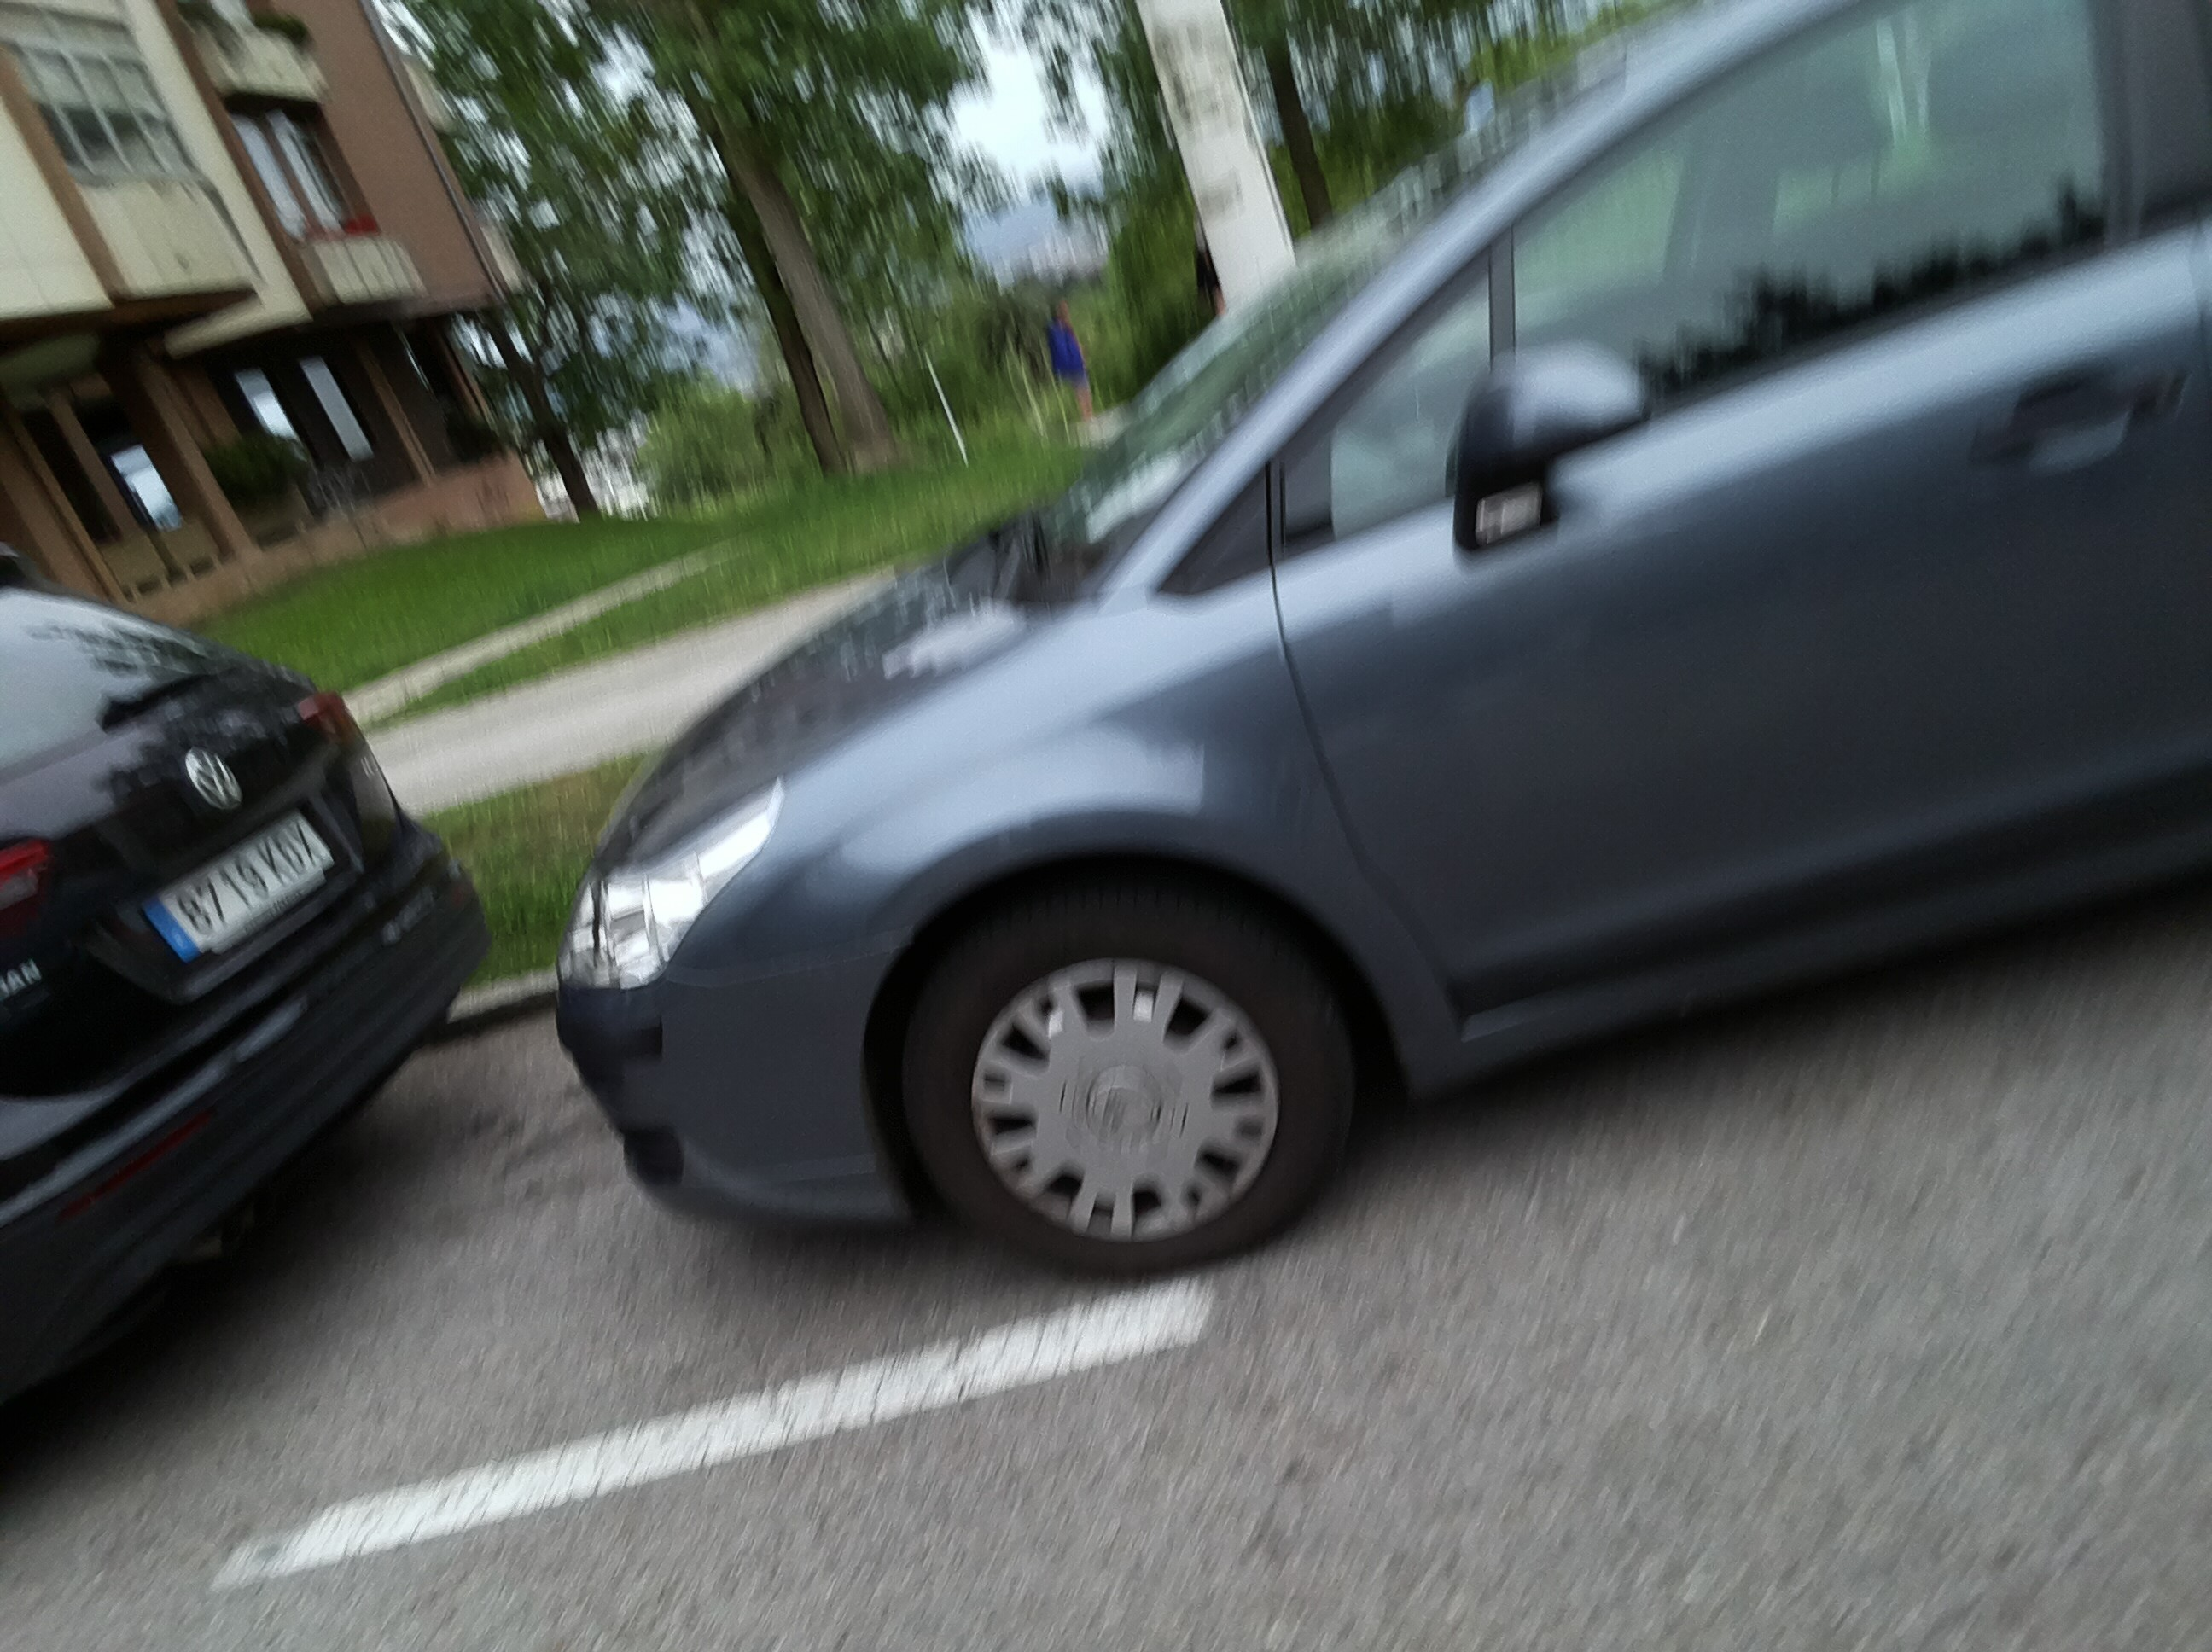Vehiculo: (527, 0, 2212, 1315)
